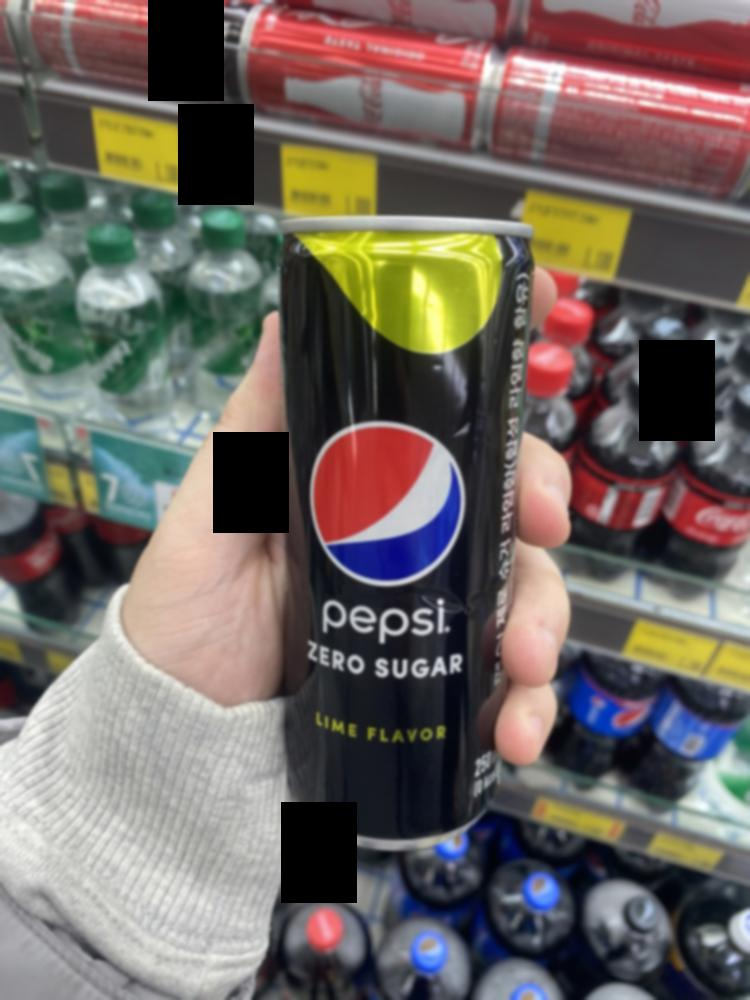pepsi_zero: (233, 200, 514, 864)
